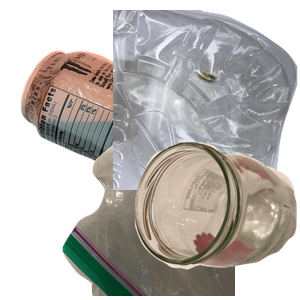glass: (132, 139, 300, 300)
metal: (18, 48, 258, 228)
plastic: (113, 10, 300, 190)
trash: (60, 120, 300, 300)
